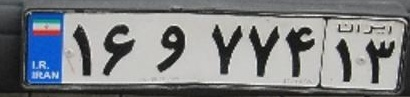character: (145, 17, 195, 77), (97, 18, 140, 79), (204, 19, 245, 81), (282, 20, 319, 86), (246, 19, 281, 80), (64, 18, 93, 80), (362, 35, 396, 87), (330, 36, 359, 85)
